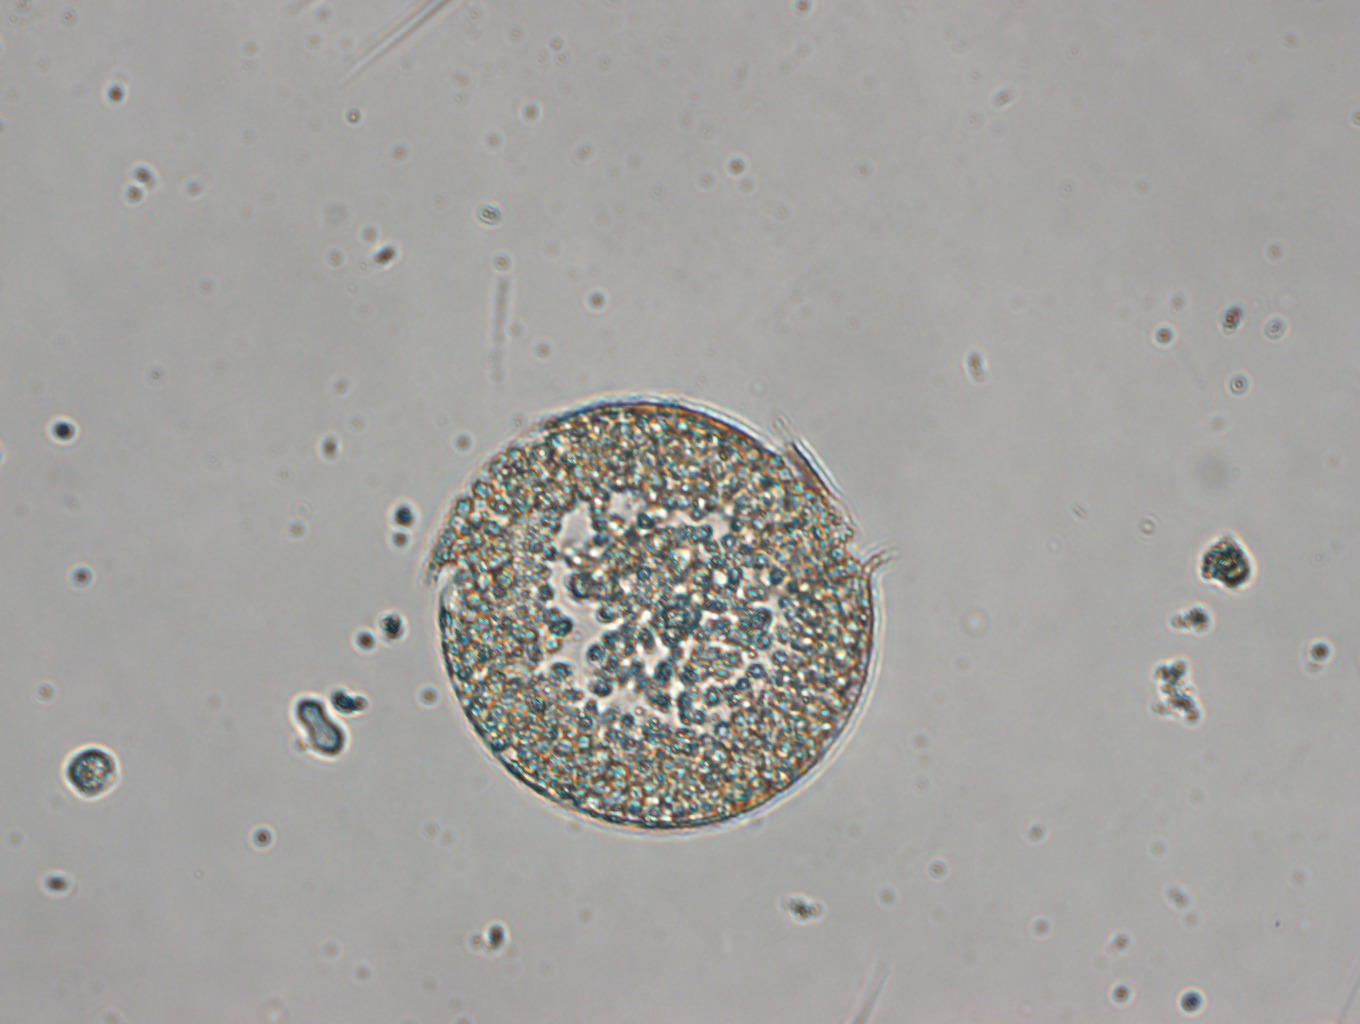coscinodiscus: (423, 398, 896, 833)
